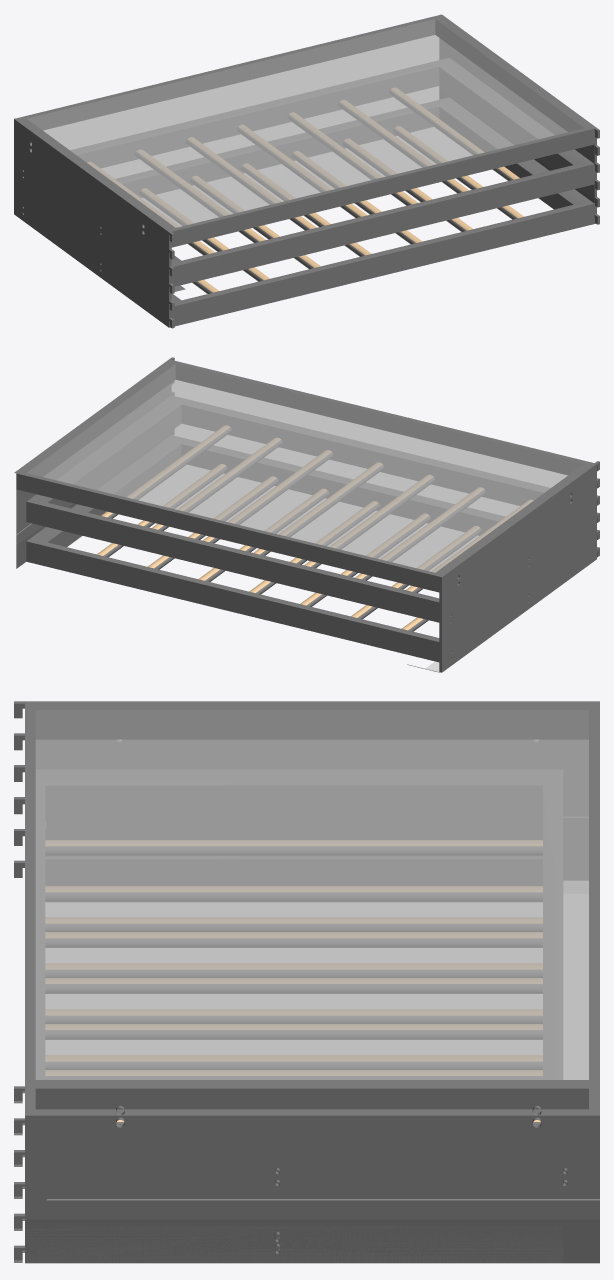
3 views of the same model, one above another, from view 1: azimuth 30°, elevation 25°; view 2: azimuth 150°, elevation 25°; view 3: azimuth 270°, elevation 25° (orthographic). The views are drawn at different scales.
Visible parts, largest first — view 1: Geom3D (×6); view 2: Geom3D (×7); view 3: Geom3D (×8).
Boxes of the visible parts, x1=… form: Geom3D (×6): x1=14, y1=14, x2=599, y2=328; Geom3D (×7): x1=14, y1=357, x2=599, y2=672; Geom3D (×8): x1=14, y1=701, x2=599, y2=1263.
Size of the model in its own units: 0.8442 by 0.181 by 0.54.
